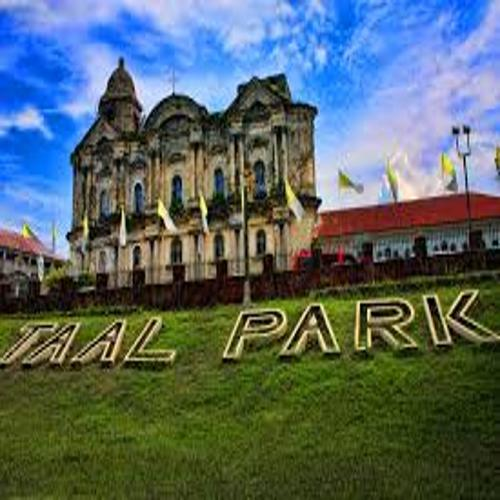Taal Basilica Church: (60, 38, 325, 288)
